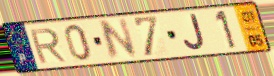0: (63, 23, 95, 63)
1: (214, 9, 239, 52)
7: (133, 15, 161, 59)
J: (182, 12, 208, 53)
N: (97, 16, 140, 63)
R: (27, 27, 68, 66)
